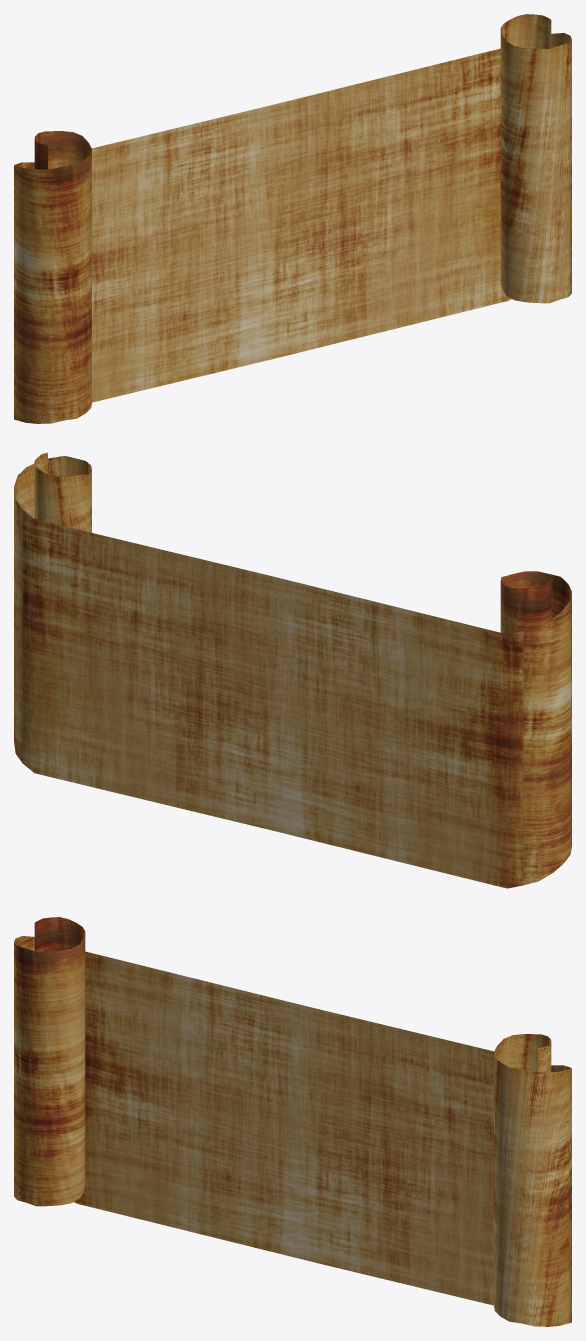
Rendered from papyrus_scroll.FBX.
3 renders of one model, top to bottom at view 1: azimuth 30°, elevation 25°; view 2: azimuth 150°, elevation 25°; view 3: azimuth 330°, elevation 25°, orthographic.
Parts seen in each view (by area): view 1: Plane002; view 2: Plane002; view 3: Plane002.
Part boxes in pixels (x1=…): Plane002: x1=14, y1=14, x2=571, y2=423; Plane002: x1=14, y1=452, x2=571, y2=888; Plane002: x1=14, y1=917, x2=571, y2=1326.
Size of the model in its own units: 210 by 109 by 28.31.
